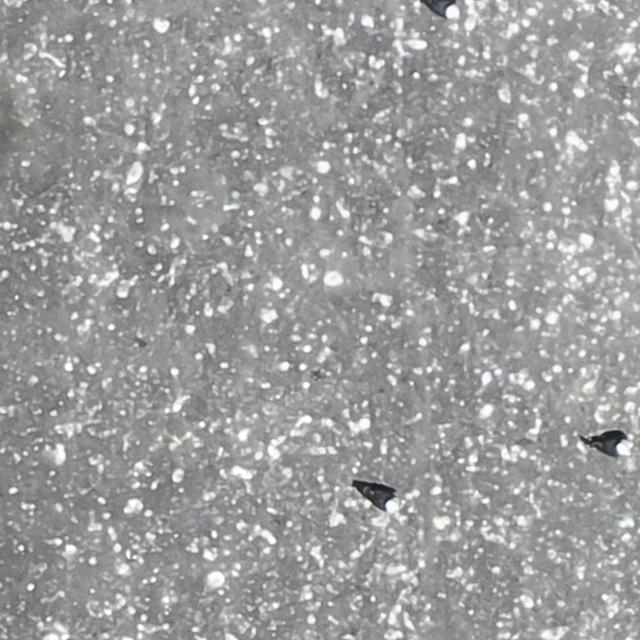umineko: (587, 434, 626, 456), (361, 488, 398, 511), (420, 1, 457, 19)
